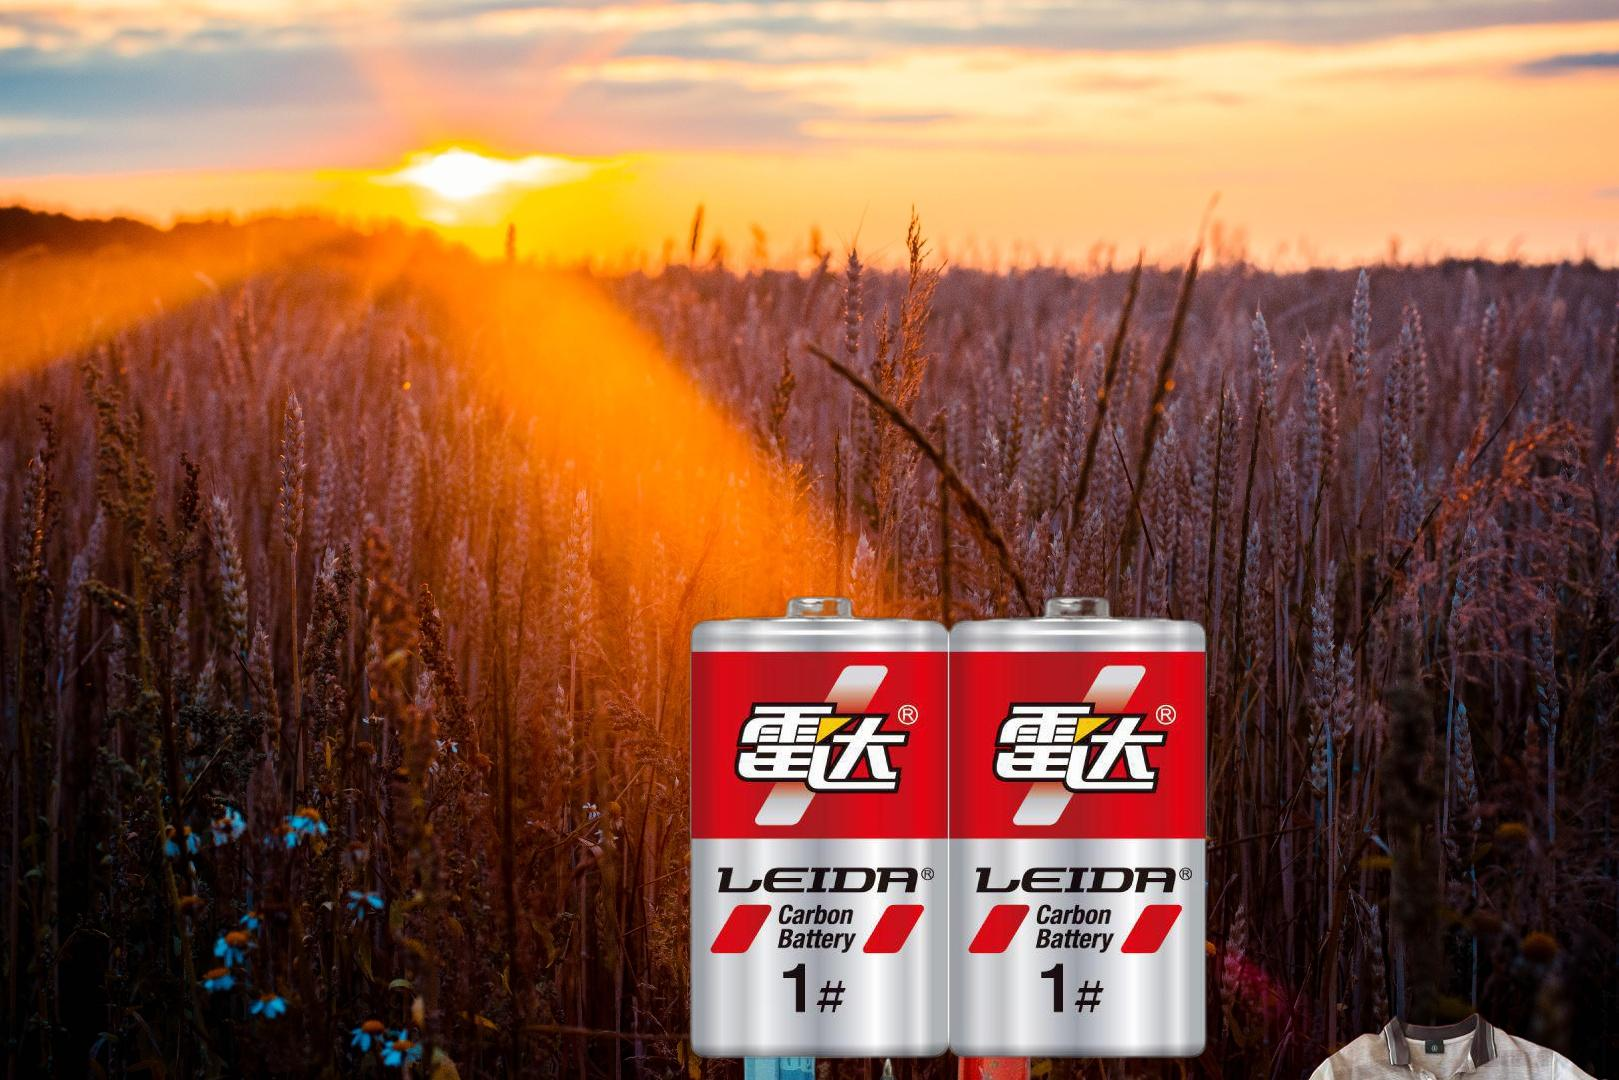battery: (684, 589, 1213, 1063)
clothes: (1253, 1008, 1619, 1080)
penholder: (739, 984, 1036, 1080)
